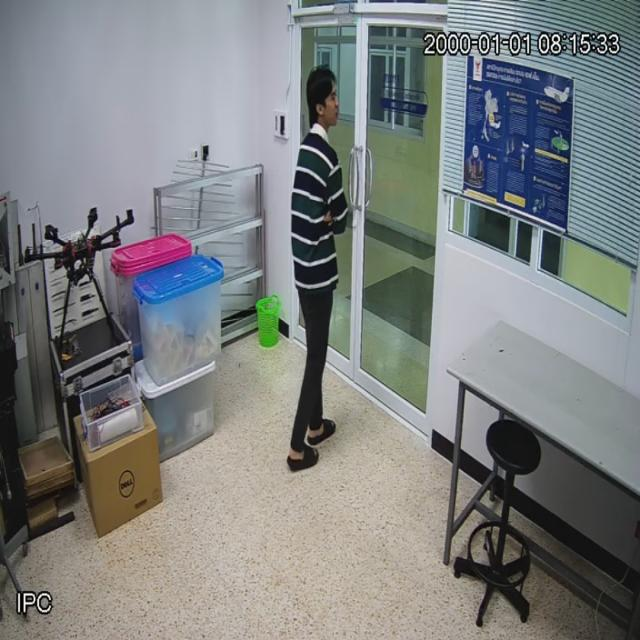normal: (289, 65, 349, 458)
